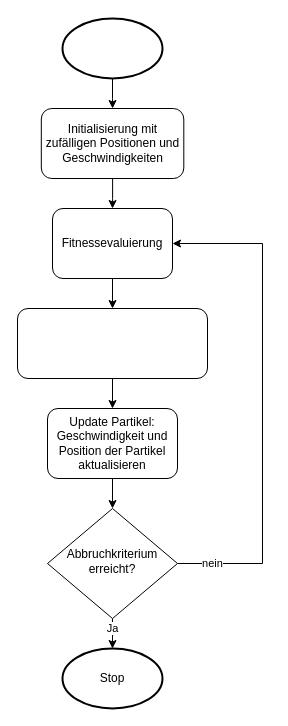
Some shapes in this 288 by 726 pixel diagram are drawn without their labels. The box of each missing label's shape, as (x1, y1, x2, y2) in pixels:
Start: (61, 17, 163, 79)
Update P: ist erreicherter Fitnesswert über bisherigem Maximum, ersetze P ibest: (16, 308, 208, 378)
